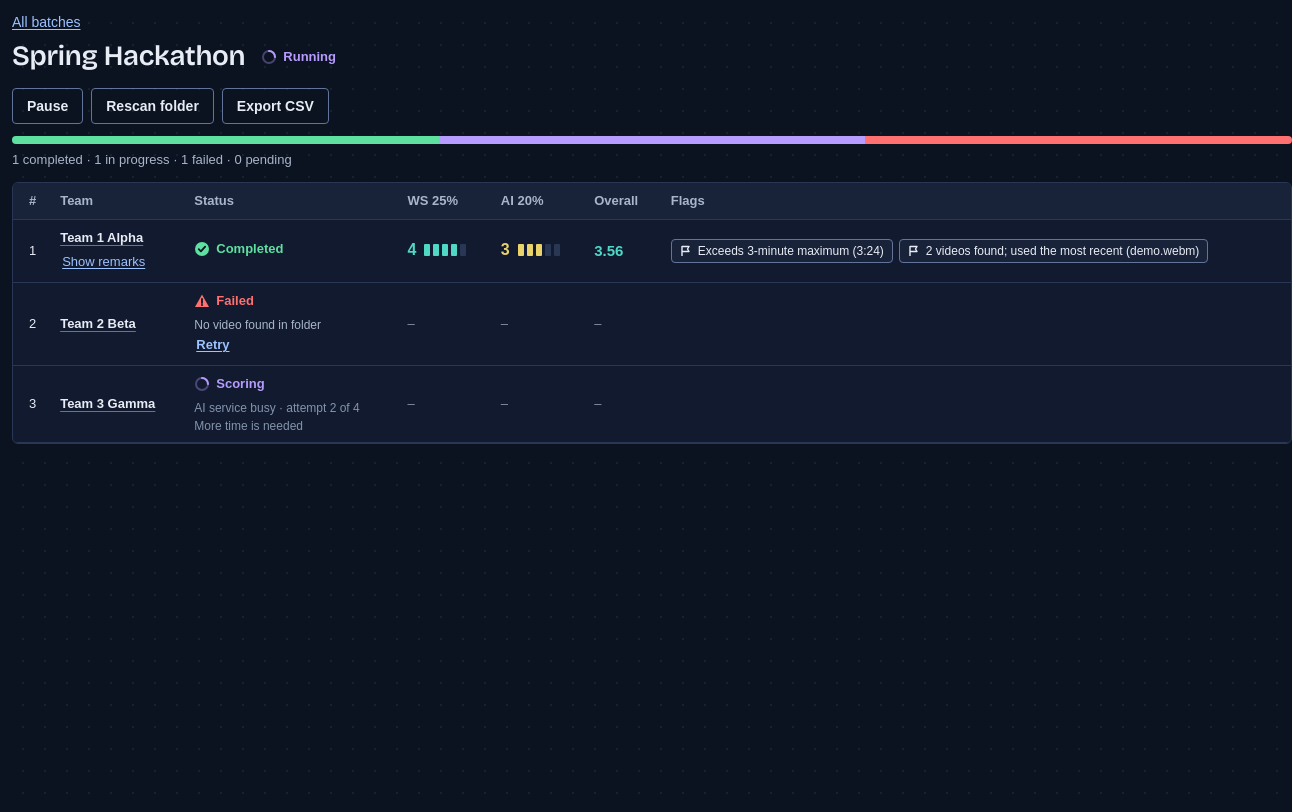
Scenario: S-3 batch controls (RSM-02, RSM-03, RSM-04, TBL-04) › should_pause_and_report_that_it_stops_after_the_current_team
Click the button "Pause" at point(48, 106), box x1=12 y1=88 x2=83 y2=124
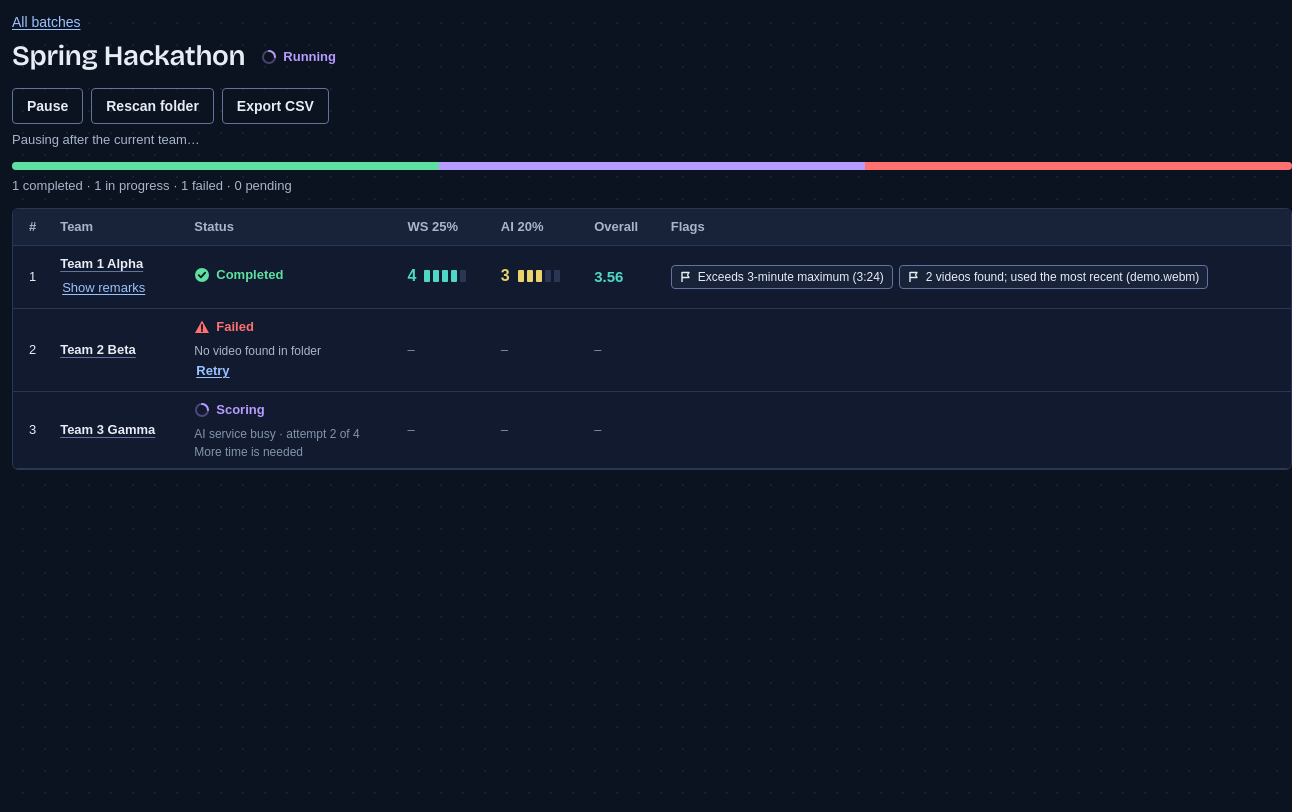
Check: the text "Pausing after the current team…" is shown, box x1=12 y1=132 x2=200 y2=147
